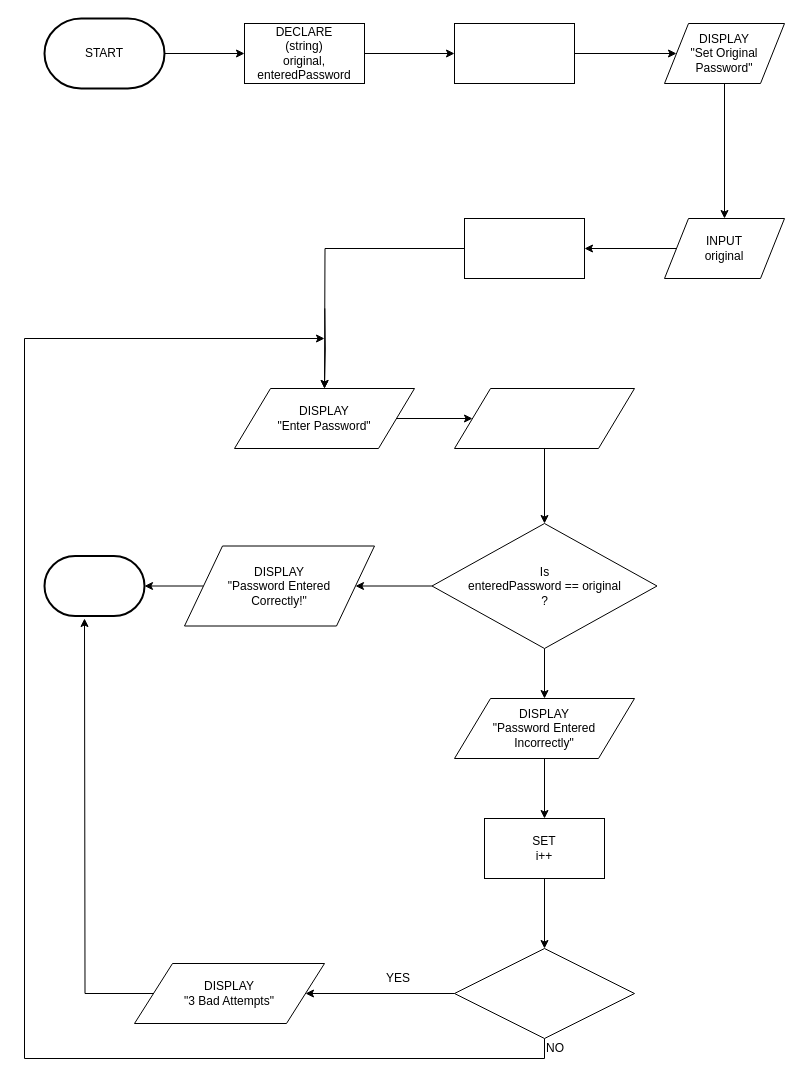
Image size: 802x1084. Some labels were removed from this diagram. Each missing label, with the box of its shape:
DECLARE (int) i: (454, 22, 574, 84)
END: (43, 554, 145, 616)
INPUT enteredPassword: (454, 388, 634, 448)
Is i == 3 ?: (454, 948, 634, 1038)
SET i = 0: (464, 218, 584, 278)
